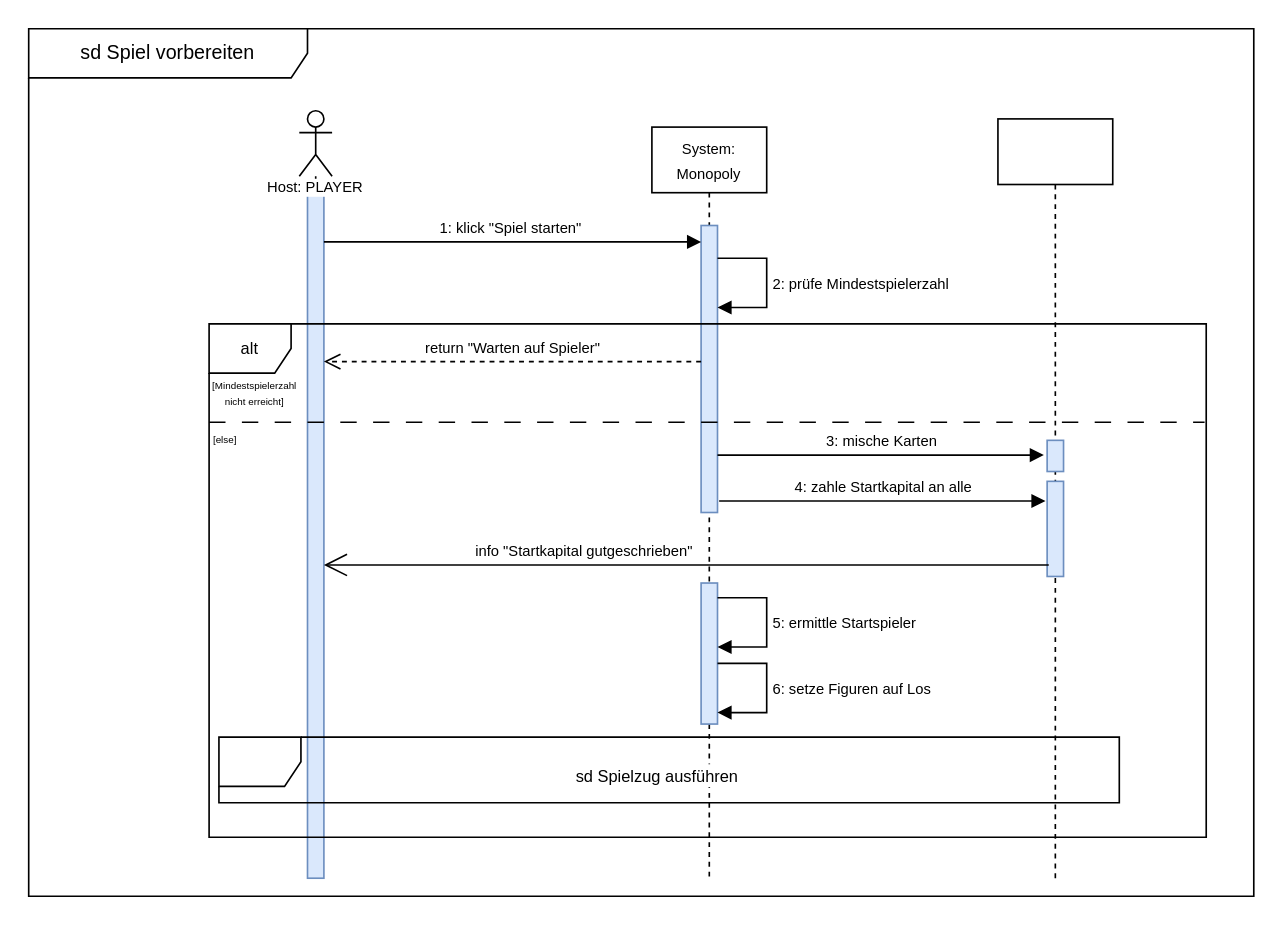
Some shapes in this 1282 by 925 pixel diagram are drawn without their labels. Here are the shapes that lost their labels. From the top down, the centre of each, then its label:
point 1054,497: Bank
point 668,769: ref
